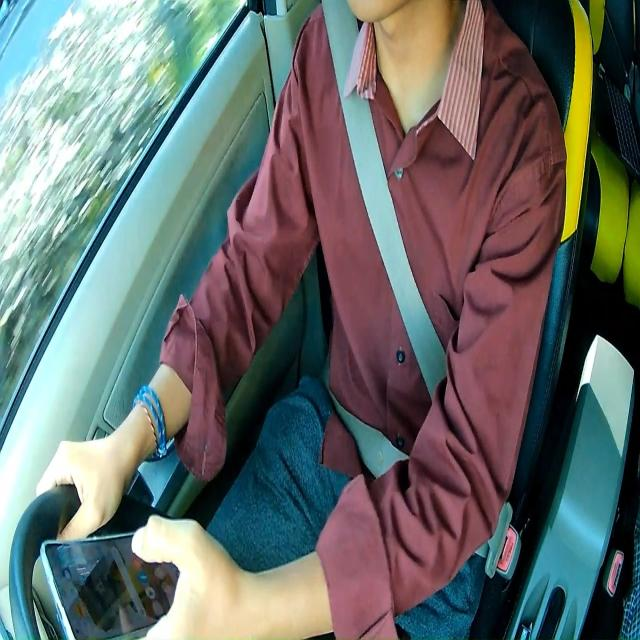phone: (40, 533, 181, 640)
